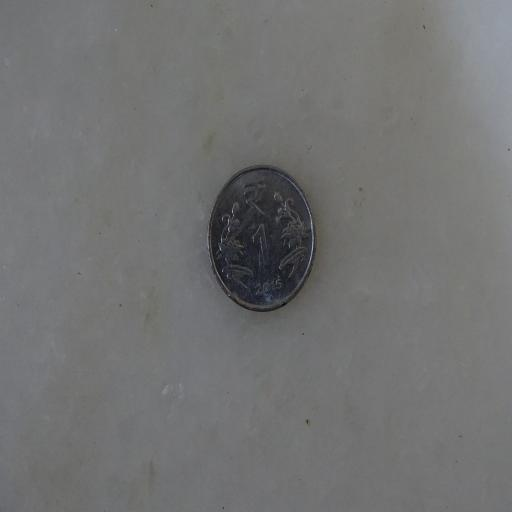rupee1: (206, 165, 319, 314)
